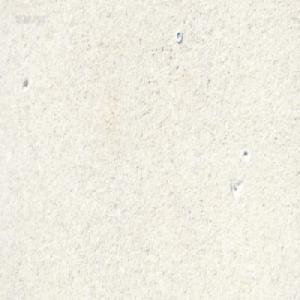Washer: (175, 29, 183, 43)
